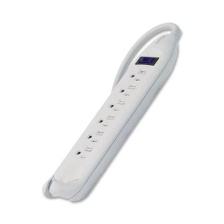three_eye_plug: (44, 27, 182, 205)
